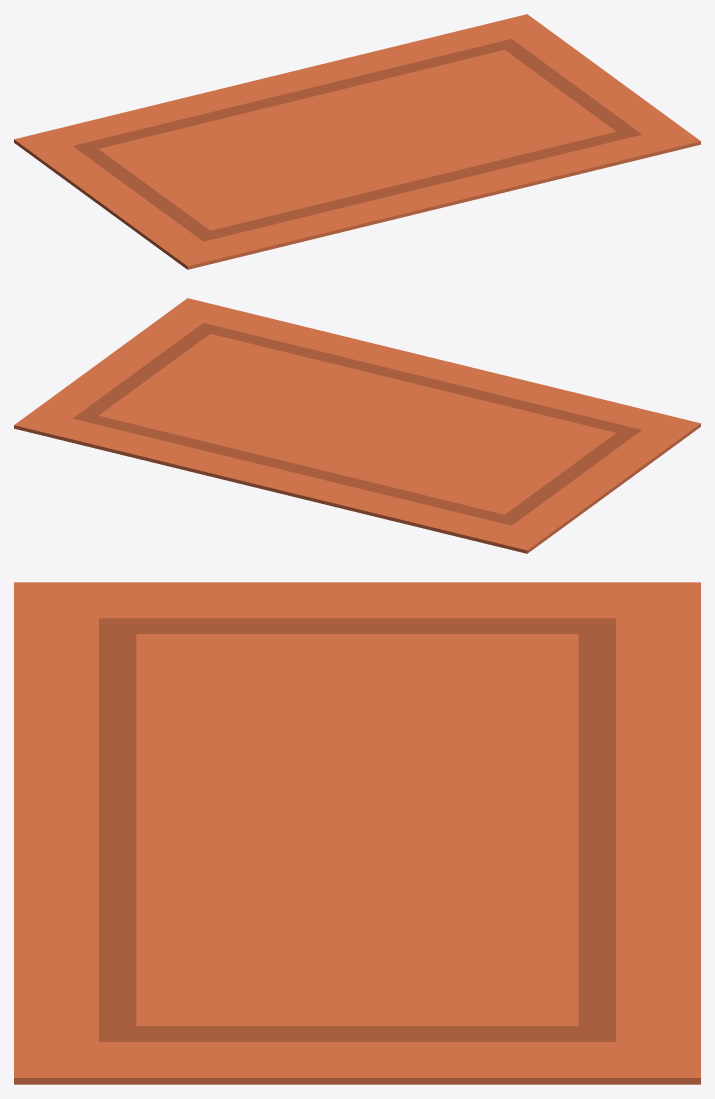
The model's file is kn-tapete.glb.
The picture shows the model from 3 angles, top to bottom: view 1: azimuth 30°, elevation 25°; view 2: azimuth 150°, elevation 25°; view 3: azimuth 270°, elevation 25°; orthographic projection. The views are drawn at different scales.
Parts seen in each view (by area): view 1: rugRectangle; view 2: rugRectangle; view 3: rugRectangle.
Part boxes in pixels (x1,y1,x2,y2): rugRectangle: (14,14,700,269); rugRectangle: (14,298,700,553); rugRectangle: (14,582,700,1084).
Bounding box in the file's own units: 2.4 × 0.0153 × 1.41.
